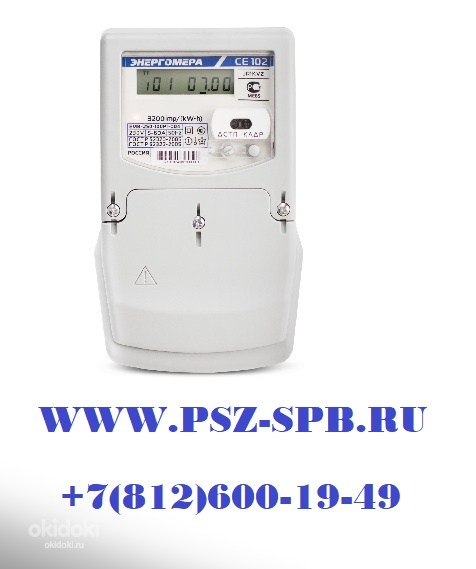counter: (95, 22, 306, 375)
counter_screen: (134, 65, 238, 99)
